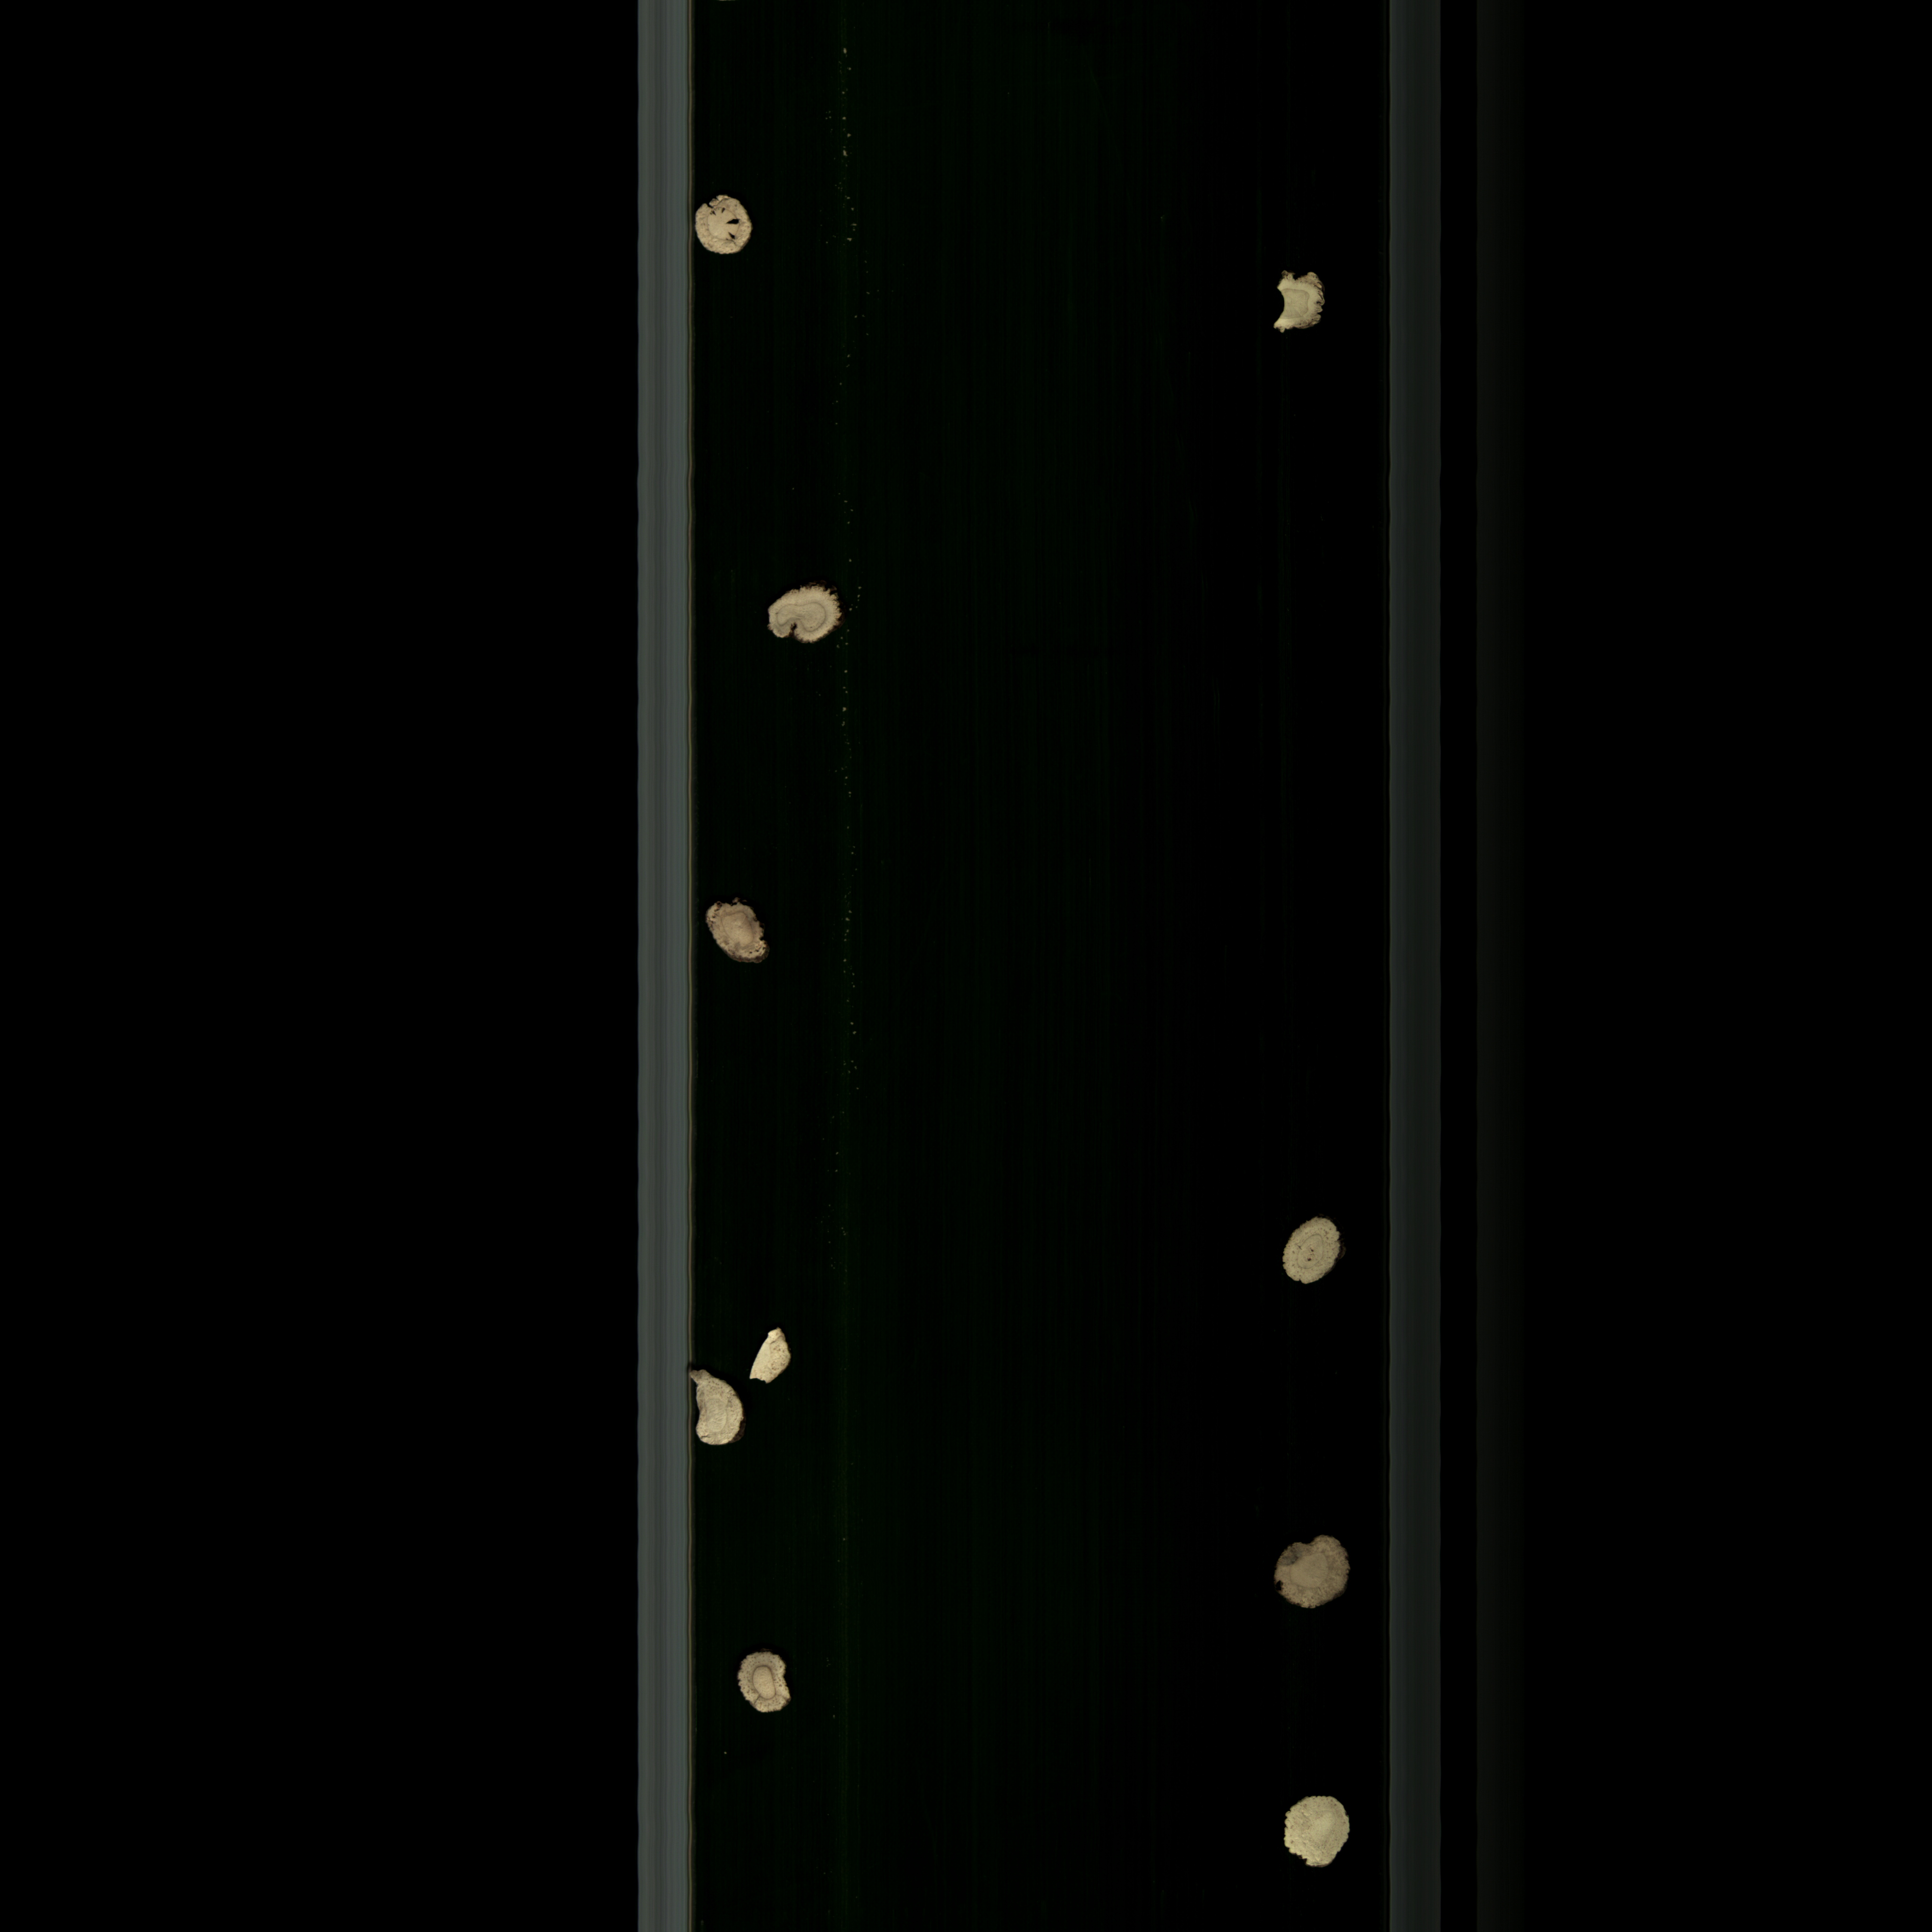debris: (1263, 257, 1343, 349), (681, 1362, 750, 1461)
distortion: (1276, 1783, 1361, 1881), (757, 577, 855, 649)
dreg: (736, 1320, 816, 1391)
hole: (690, 186, 768, 262)
moldy: (1270, 1523, 1362, 1622), (736, 1640, 812, 1721), (702, 890, 770, 975)
